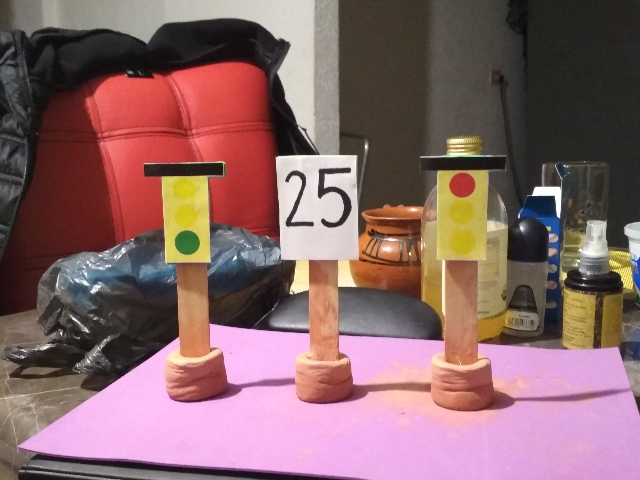Green: (137, 155, 231, 270)
Limit 25: (268, 148, 365, 267)
Red: (415, 147, 510, 267)
